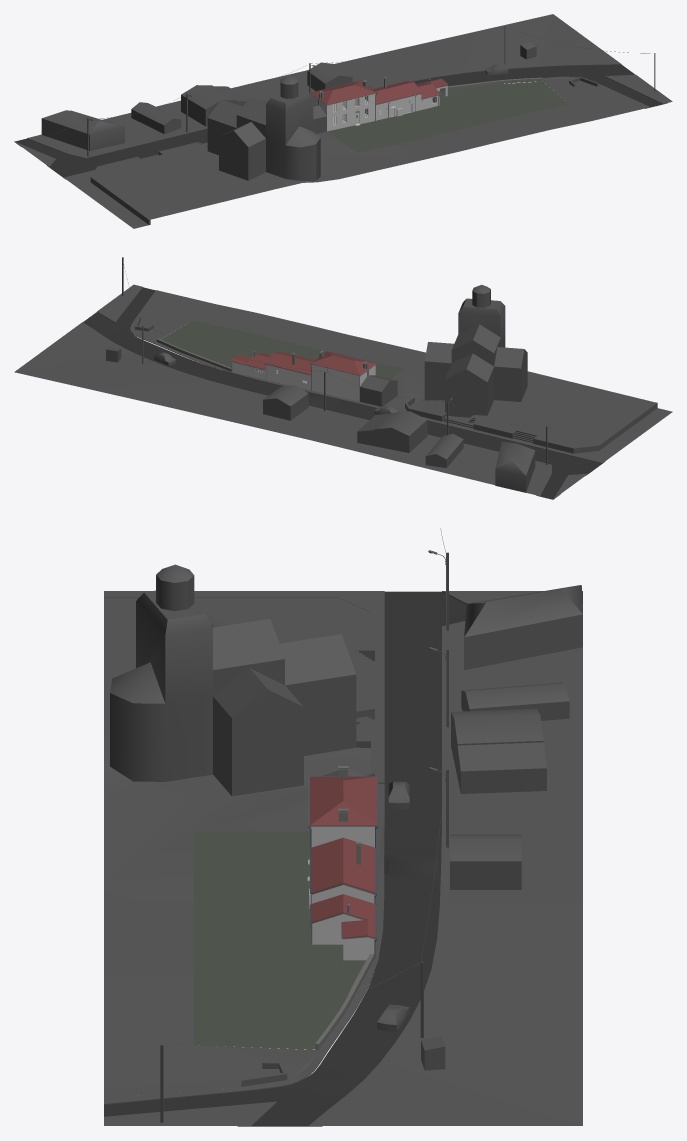
The model's file is house.glb.
3 views of the same model, one above another, from view 1: azimuth 30°, elevation 25°; view 2: azimuth 150°, elevation 25°; view 3: azimuth 270°, elevation 25° (orthographic). The views are drawn at different scales.
Visible parts, largest first — view 1: zone, EGLISE002, jardin, ROAD, HOUSE004, TROTOIRE, toit, Facade, HOUSE001, HOUSE003, HOUSE002, MURETTE001 (+2 smaller); view 2: zone, EGLISE002, ROAD, jardin, TROTOIRE, Facade, HOUSE001, toit, HOUSE004, MURETTE001, HOUSE002, LOCAL (+1 smaller); view 3: zone, EGLISE002, ROAD, jardin, TROTOIRE, toit, HOUSE004, HOUSE001, HOUSE002, Facade, HOUSE003, DOSDANE (+1 smaller).
Boxes of the visible parts, bbox=[...] form: zone: bbox=[22, 14, 672, 228]; EGLISE002: bbox=[207, 75, 320, 181]; jardin: bbox=[327, 81, 568, 152]; ROAD: bbox=[15, 64, 663, 177]; HOUSE004: bbox=[41, 110, 124, 150]; TROTOIRE: bbox=[14, 61, 667, 179]; toit: bbox=[310, 78, 448, 104]; Facade: bbox=[311, 85, 447, 131]; HOUSE001: bbox=[181, 85, 248, 126]; HOUSE003: bbox=[131, 102, 181, 134]; HOUSE002: bbox=[307, 62, 352, 90]; MURETTE001: bbox=[90, 142, 207, 224]; zone: bbox=[14, 284, 672, 494]; EGLISE002: bbox=[424, 284, 527, 417]; ROAD: bbox=[83, 287, 602, 499]; jardin: bbox=[161, 320, 404, 378]; TROTOIRE: bbox=[79, 286, 605, 499]; Facade: bbox=[231, 362, 375, 401]; HOUSE001: bbox=[357, 411, 427, 452]; toit: bbox=[231, 351, 376, 375]; HOUSE004: bbox=[495, 441, 535, 492]; MURETTE001: bbox=[405, 396, 657, 453]; HOUSE002: bbox=[263, 385, 308, 420]; LOCAL: bbox=[360, 375, 397, 406]; zone: bbox=[104, 591, 582, 1125]; EGLISE002: bbox=[110, 564, 356, 796]; ROAD: bbox=[104, 591, 582, 1126]; jardin: bbox=[194, 831, 366, 1049]; TROTOIRE: bbox=[104, 591, 582, 1126]; toit: bbox=[309, 776, 376, 938]; HOUSE004: bbox=[464, 585, 582, 669]; HOUSE001: bbox=[451, 708, 546, 793]; HOUSE002: bbox=[450, 834, 521, 889]; Facade: bbox=[308, 826, 374, 960]; HOUSE003: bbox=[461, 682, 569, 720]; DOSDANE: bbox=[385, 846, 438, 888].
Size of the model in its own units: 130 by 23.65 by 50.03.
